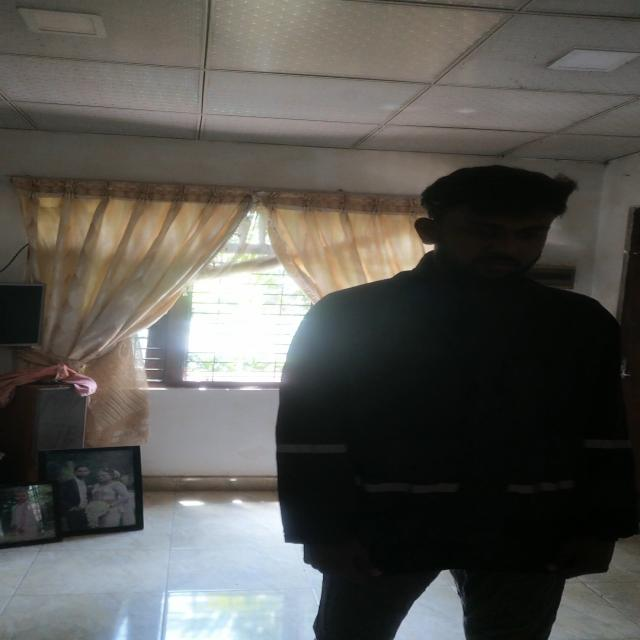Jacket_Wearer: (275, 260, 640, 577)
Person: (269, 149, 640, 640)
